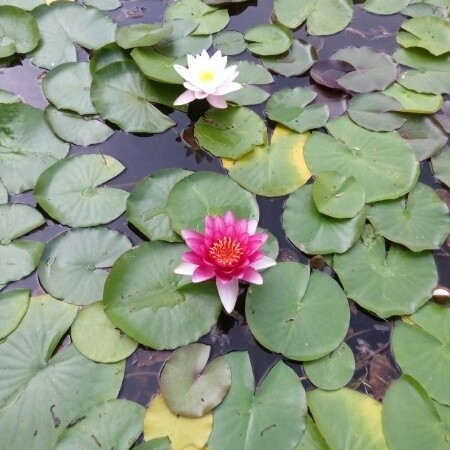obstacle: (130, 167, 278, 348)
